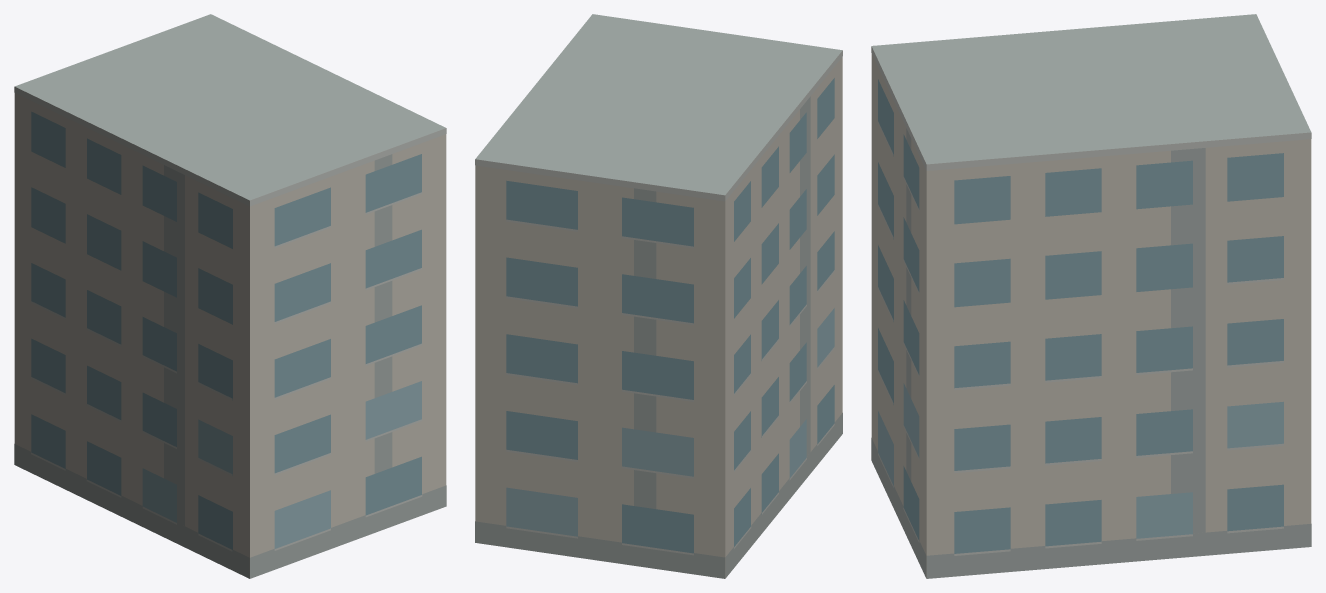
Rendered from residential-f7f1de3d-f531-4ce7-a058-9231a4c22127.glb.
3 renders of one model, left to right at view 1: azimuth 30°, elevation 25°; view 2: azimuth 150°, elevation 25°; view 3: azimuth 270°, elevation 25°, orthographic. The views are drawn at different scales.
Visible parts, largest first — view 1: residential-f7f1de3d-f531-4ce7-a058-9231a4c22127.tmp; view 2: residential-f7f1de3d-f531-4ce7-a058-9231a4c22127.tmp; view 3: residential-f7f1de3d-f531-4ce7-a058-9231a4c22127.tmp.
Part boxes in pixels (x1,y1,x2,y2): residential-f7f1de3d-f531-4ce7-a058-9231a4c22127.tmp: [14, 14, 446, 578]; residential-f7f1de3d-f531-4ce7-a058-9231a4c22127.tmp: [475, 14, 842, 578]; residential-f7f1de3d-f531-4ce7-a058-9231a4c22127.tmp: [871, 14, 1311, 578].
Bounding box in the file's own units: 11.88 × 15.25 × 14.68.
